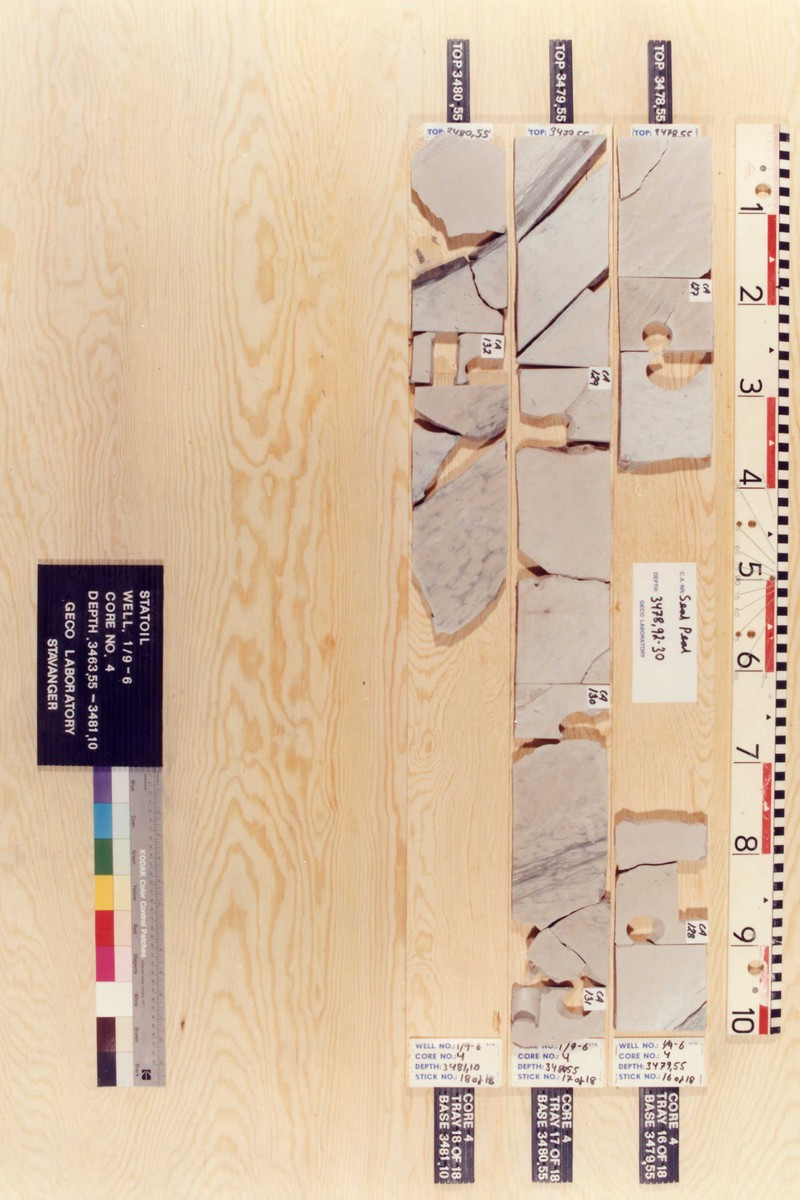core: (512, 135, 610, 1045), (410, 135, 505, 641), (616, 136, 716, 467), (612, 816, 710, 1031)
